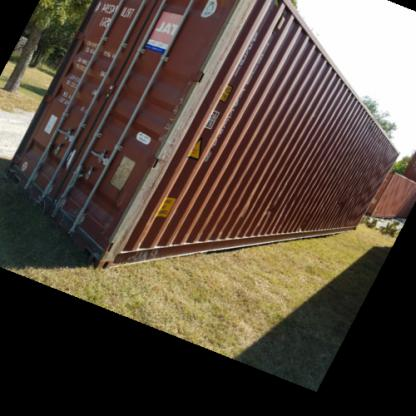Damage: (157, 85, 187, 145), (261, 188, 276, 221), (293, 216, 315, 233), (329, 195, 353, 210)
